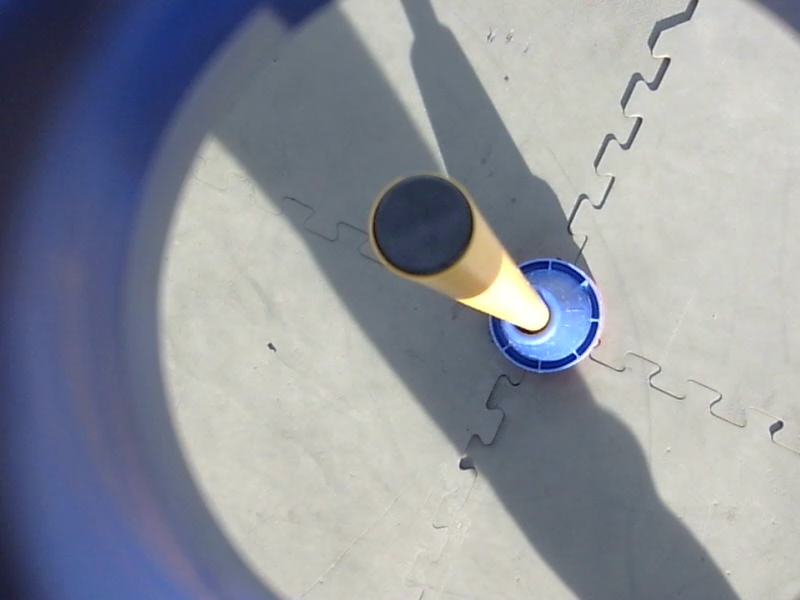tip: (364, 168, 484, 287)
